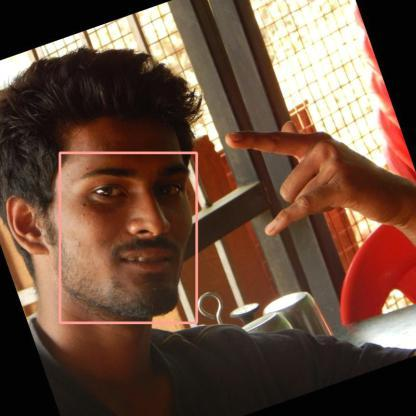without_mask: (60, 153, 196, 323)
